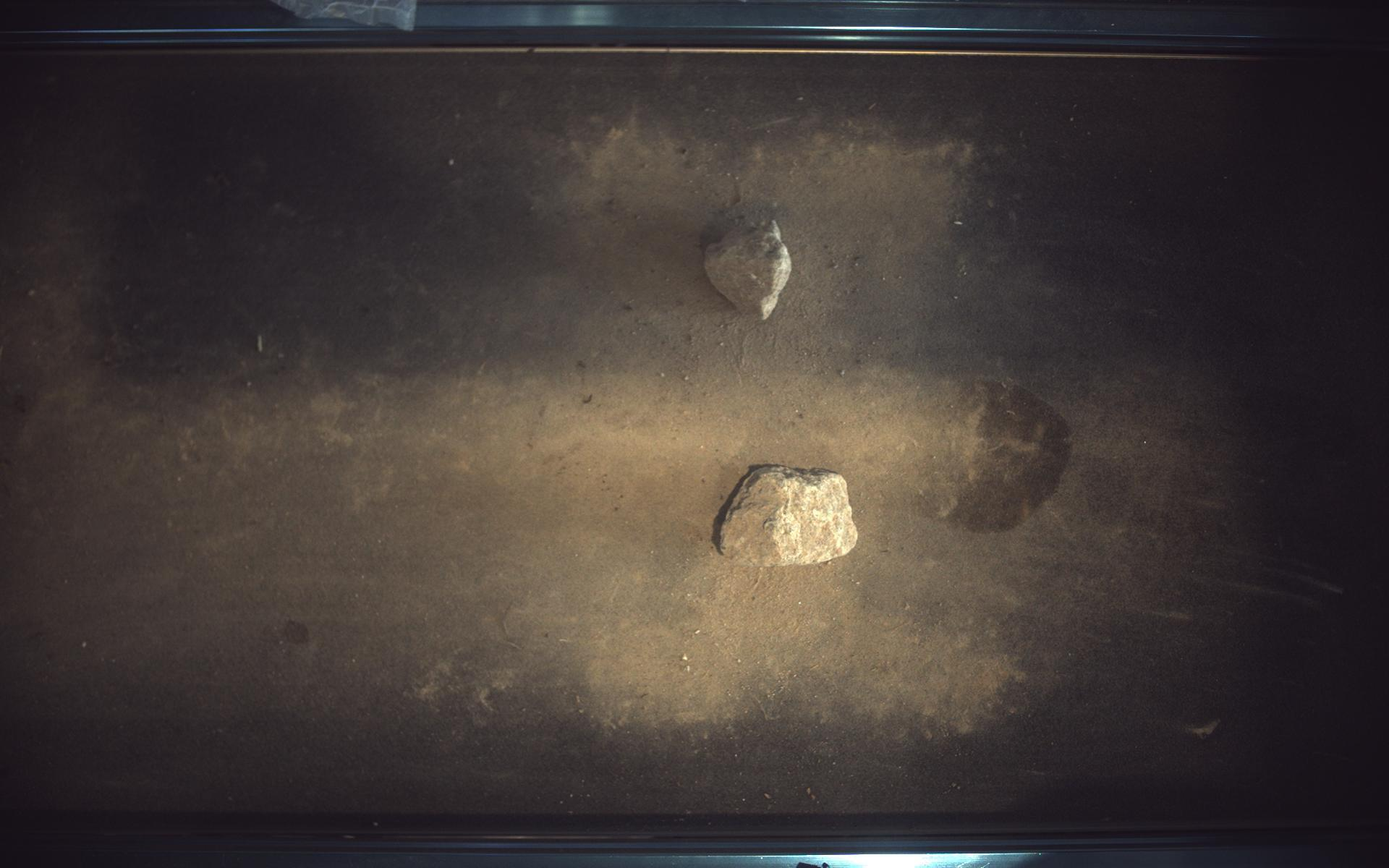stone: (721, 466, 859, 566), (705, 219, 793, 320)
